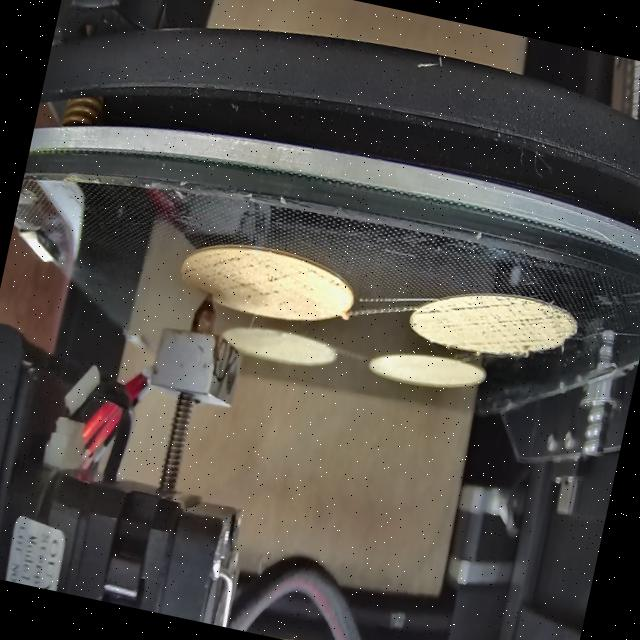under_extrusion: (440, 293, 570, 367), (179, 236, 298, 309), (303, 260, 343, 296), (411, 298, 444, 324)
